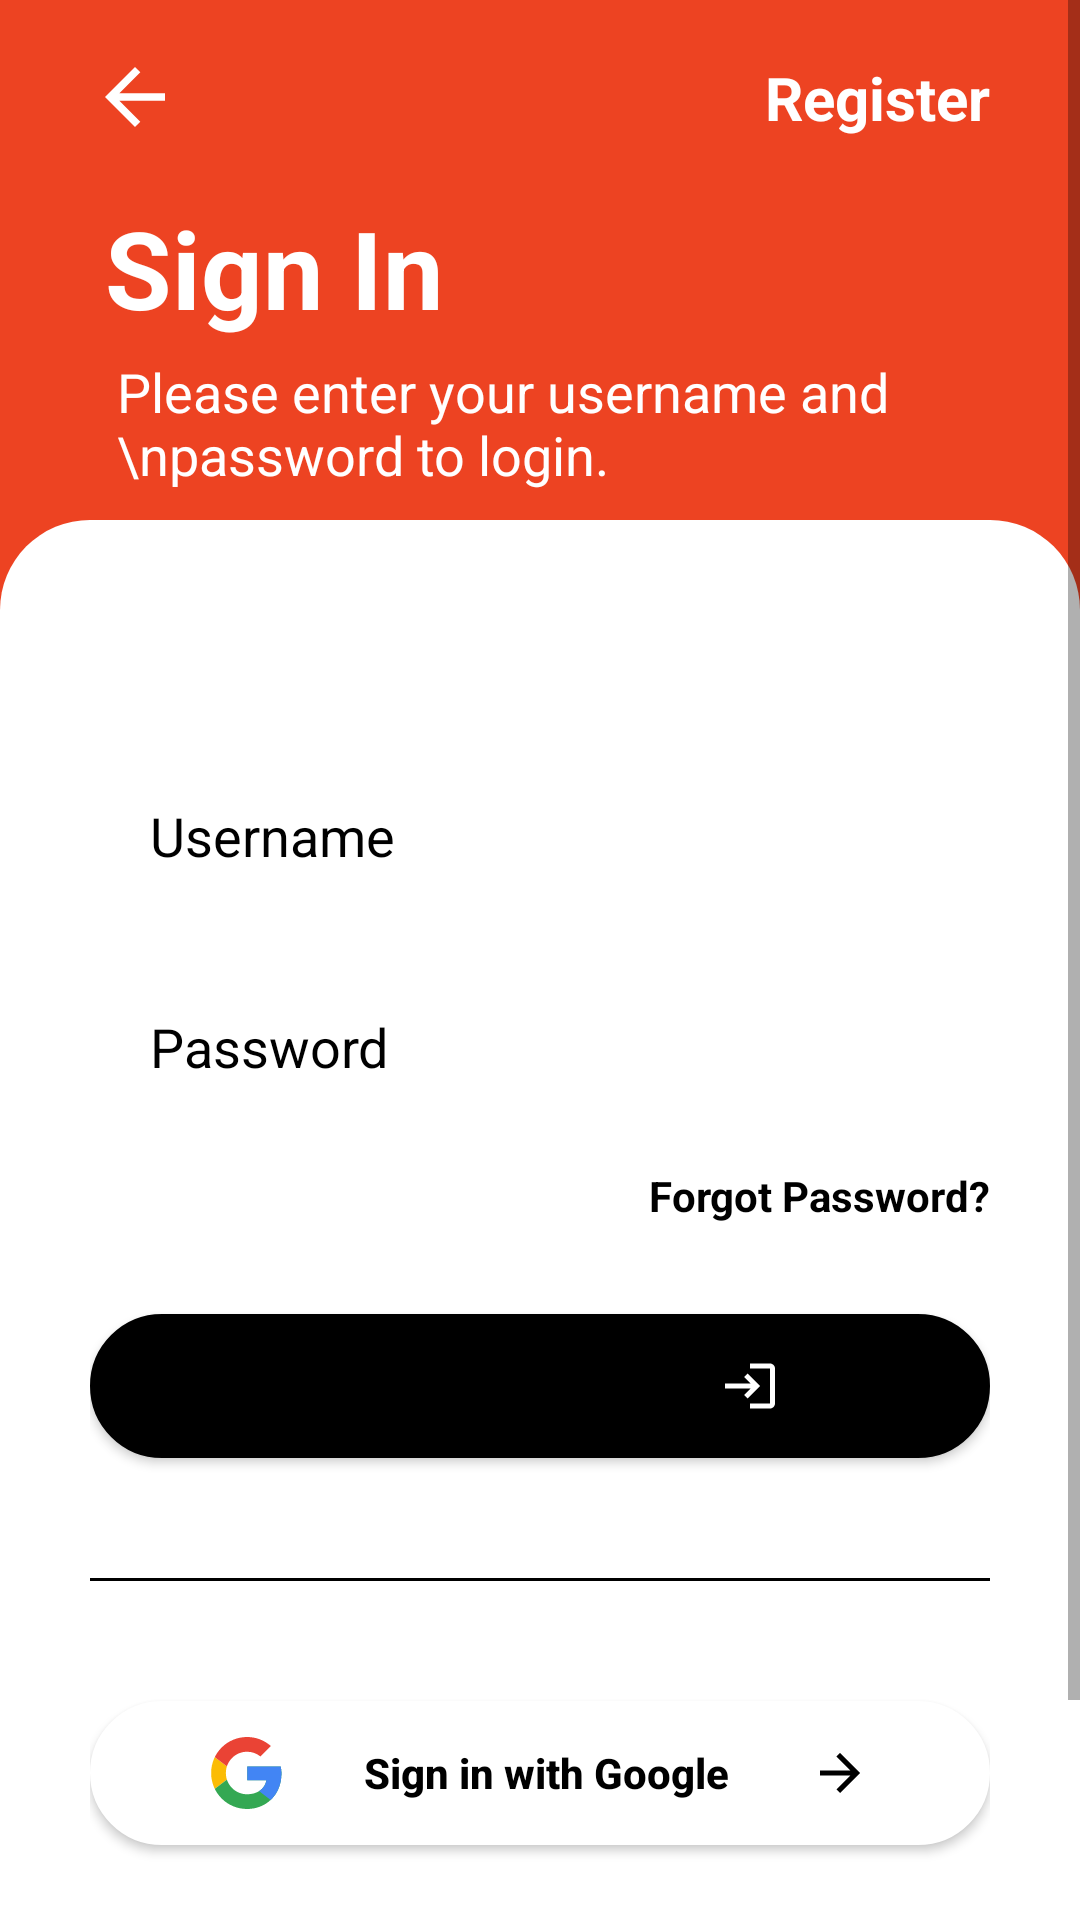

Where to tap for icons on this 1080×1920 app screen, as [x,y]:
back: [135,97]
